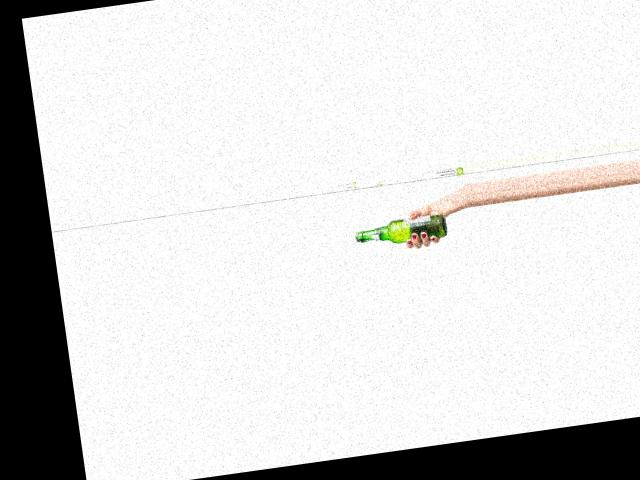beer: (353, 212, 447, 248)
